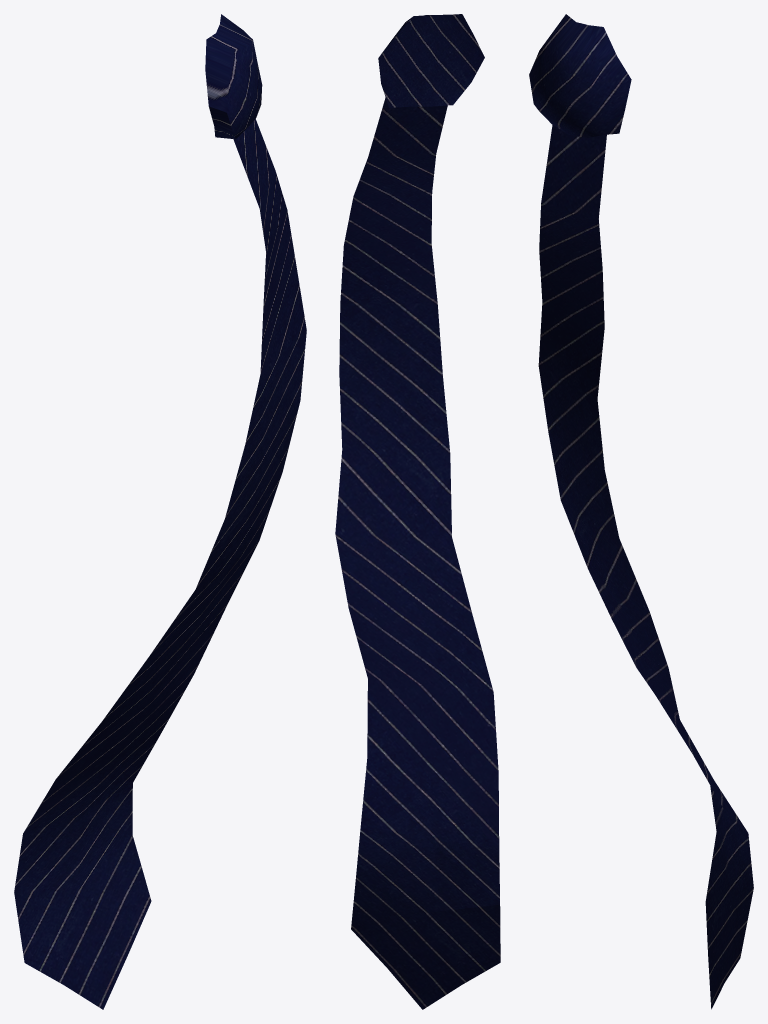
File: Pose-10_SuitTie-4.fbx
The picture shows the model from 3 angles, left to right: view 1: azimuth 30°, elevation 25°; view 2: azimuth 150°, elevation 25°; view 3: azimuth 270°, elevation 25°; orthographic projection. The views are drawn at different scales.
Visible parts, largest first — view 1: Pose-10_SuitTie-4; view 2: Pose-10_SuitTie-4; view 3: Pose-10_SuitTie-4.
Part boxes in pixels (left/top/right/bottom): Pose-10_SuitTie-4: left=14, top=14, right=306, bottom=1009; Pose-10_SuitTie-4: left=335, top=14, right=500, bottom=1009; Pose-10_SuitTie-4: left=529, top=14, right=753, bottom=1009.
Size of the model in its own units: 11.02 by 46.15 by 9.27.
